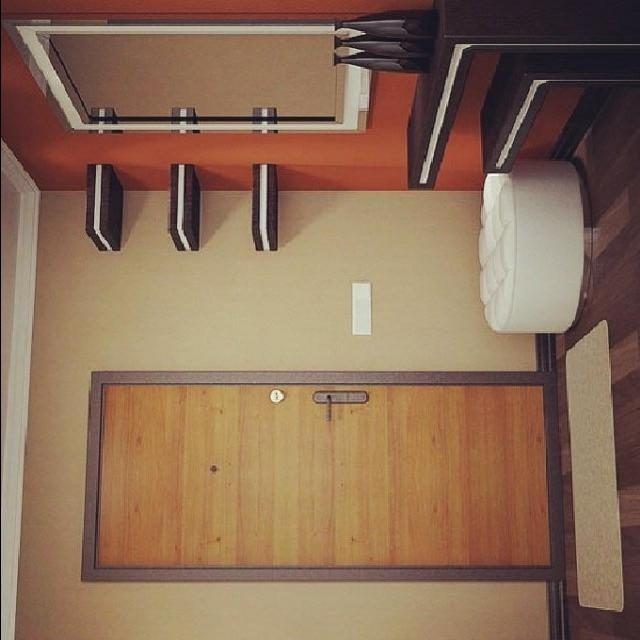close: (91, 376, 554, 582)
